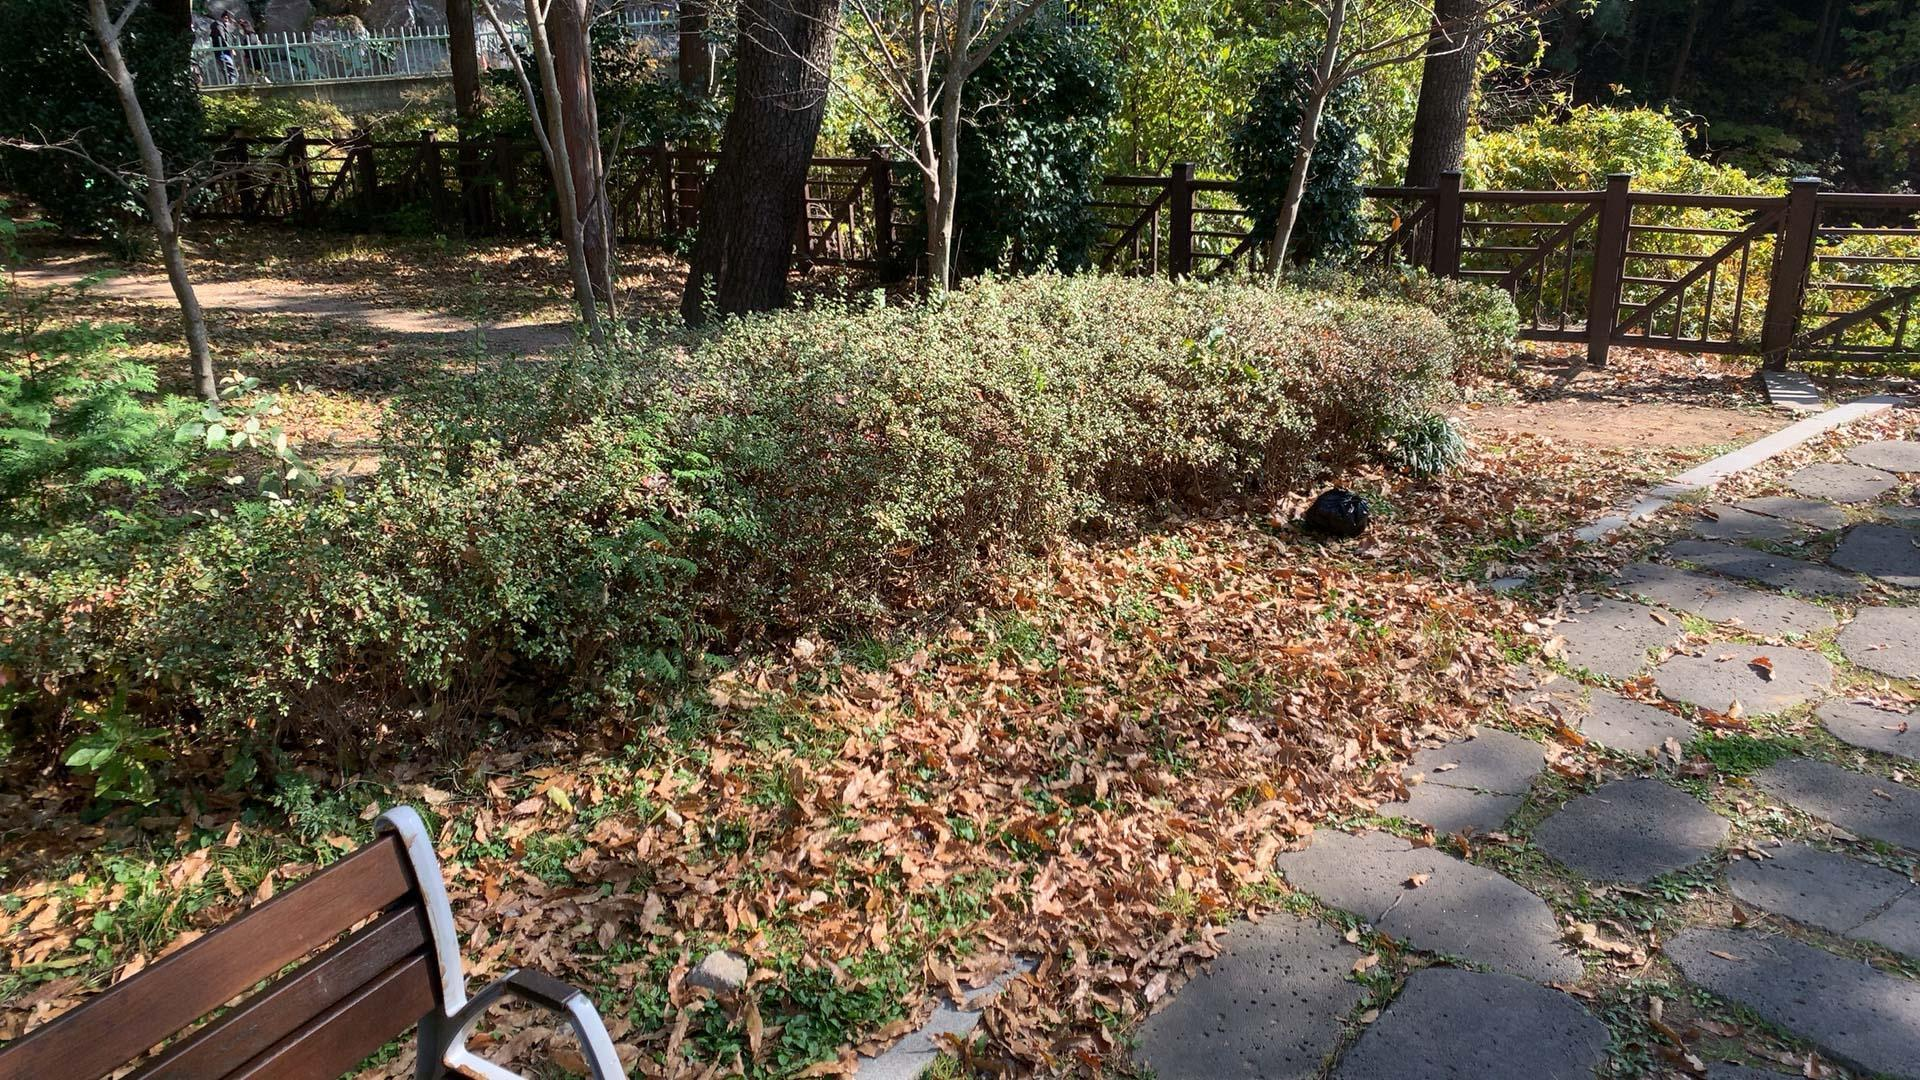black_bag: (1303, 484, 1371, 538)
